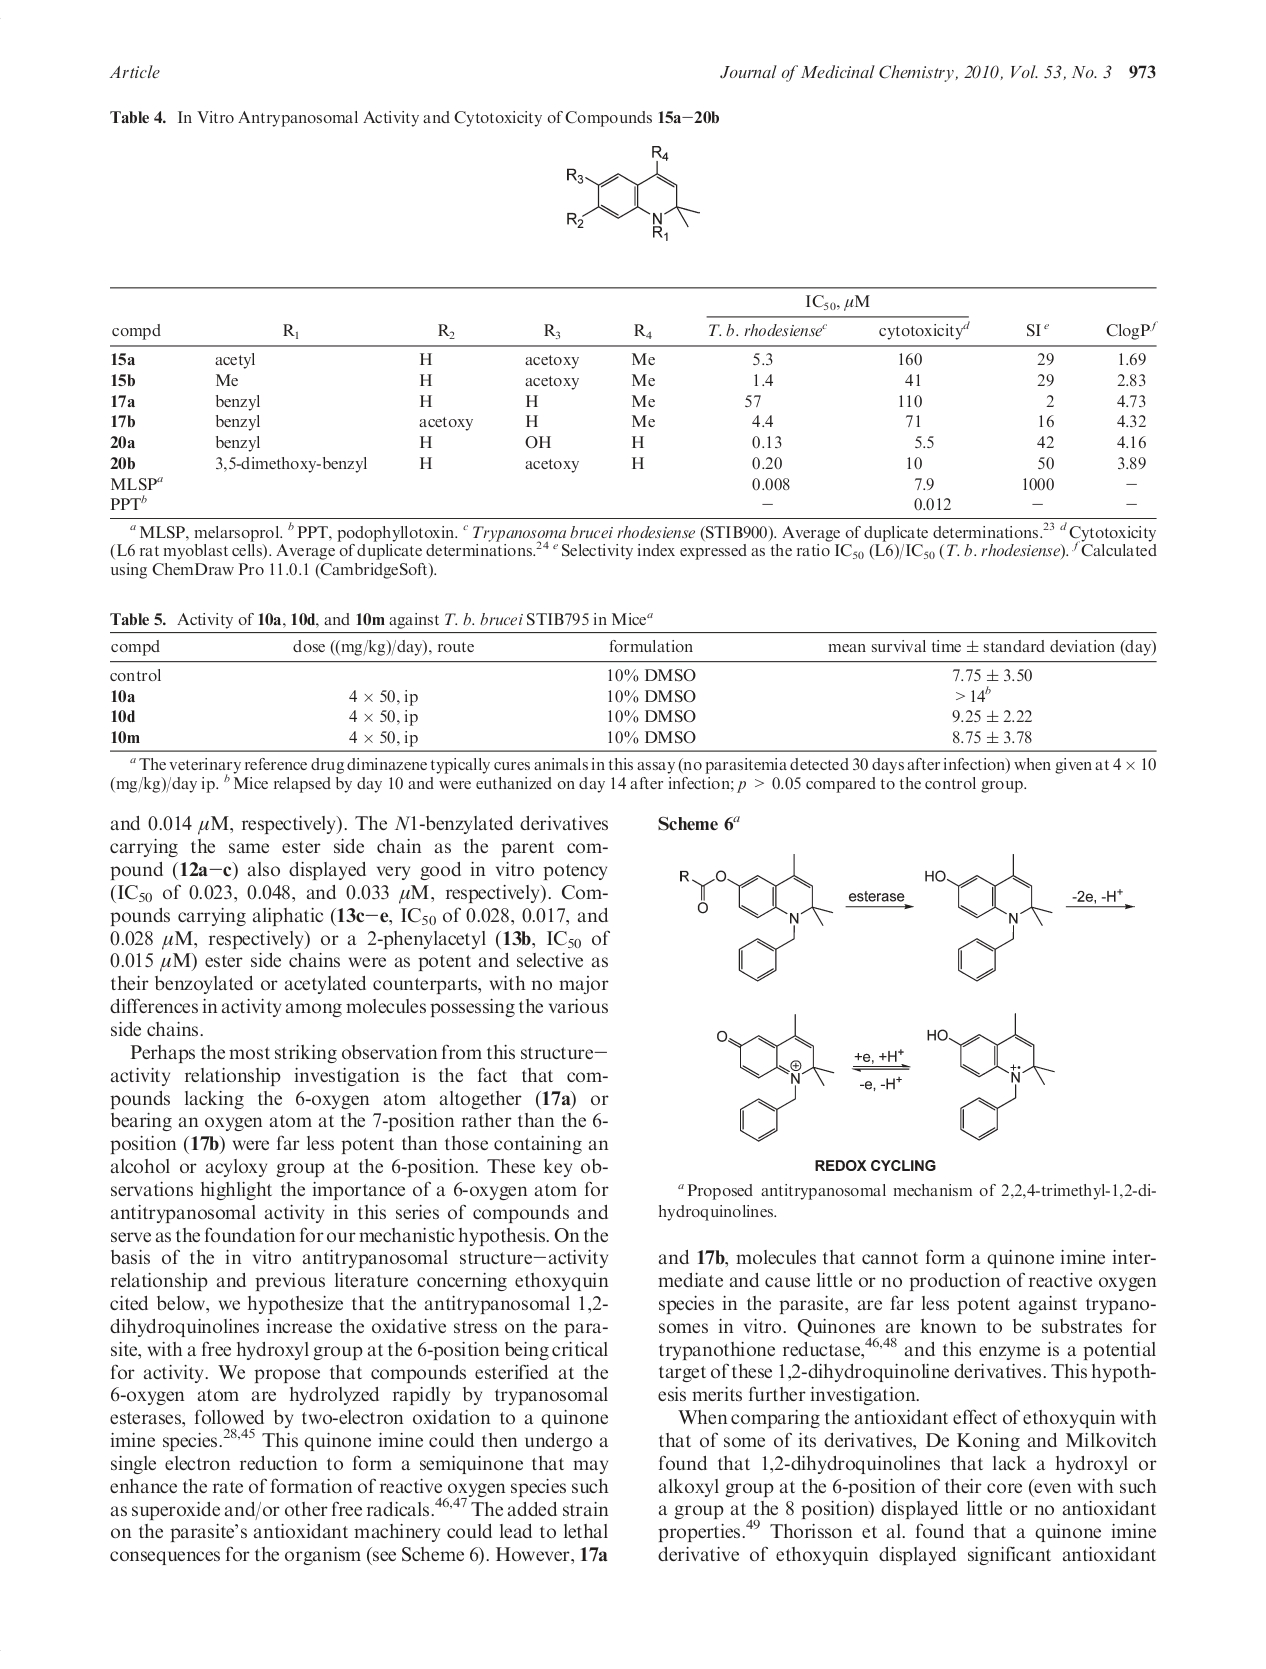exist_molecular: (676, 848, 835, 984), (924, 1009, 1059, 1142), (924, 851, 1055, 981), (711, 1012, 835, 1145), (568, 150, 703, 245)
